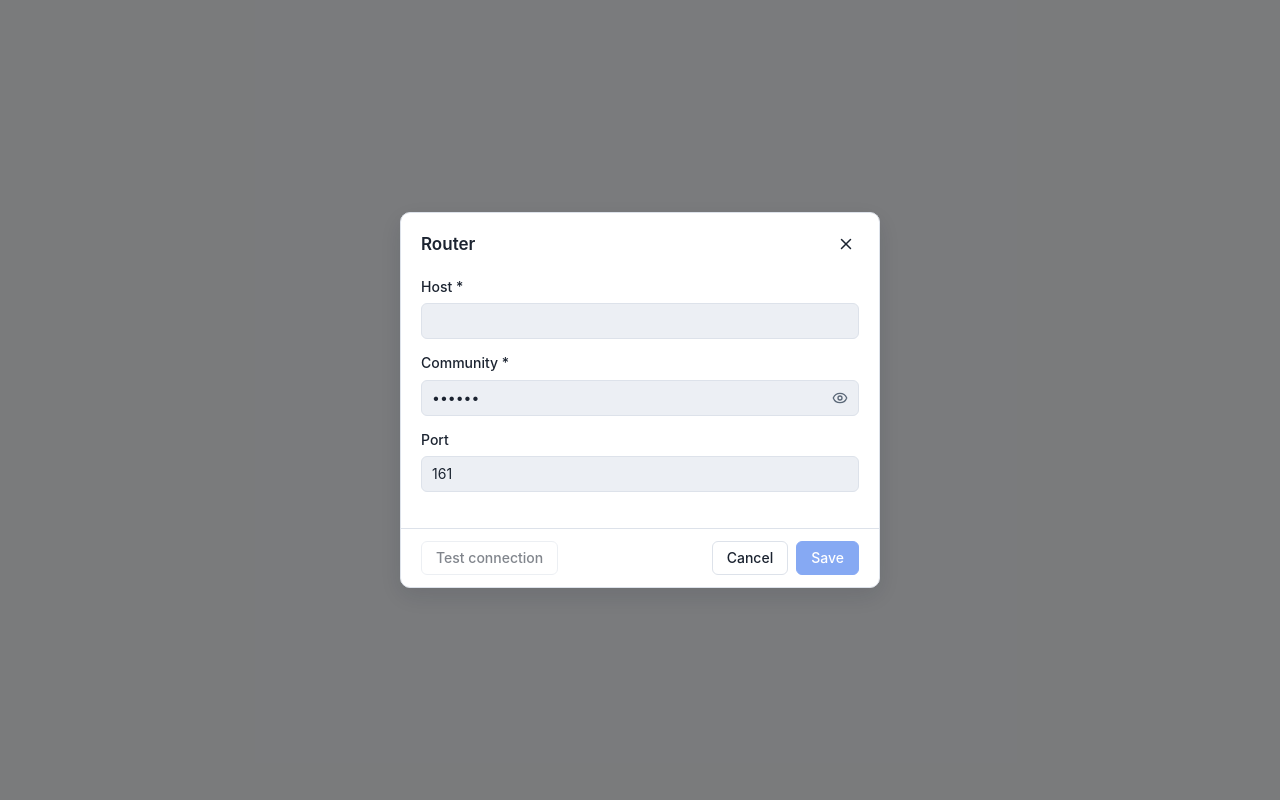
Test: IntegrationForm › lets the user reveal a secret to check it
Check: the password field named "community" holds "public", box [421, 380, 859, 416]
Click the button named "Show": {"x": 840, "y": 398} [825, 384, 855, 412]
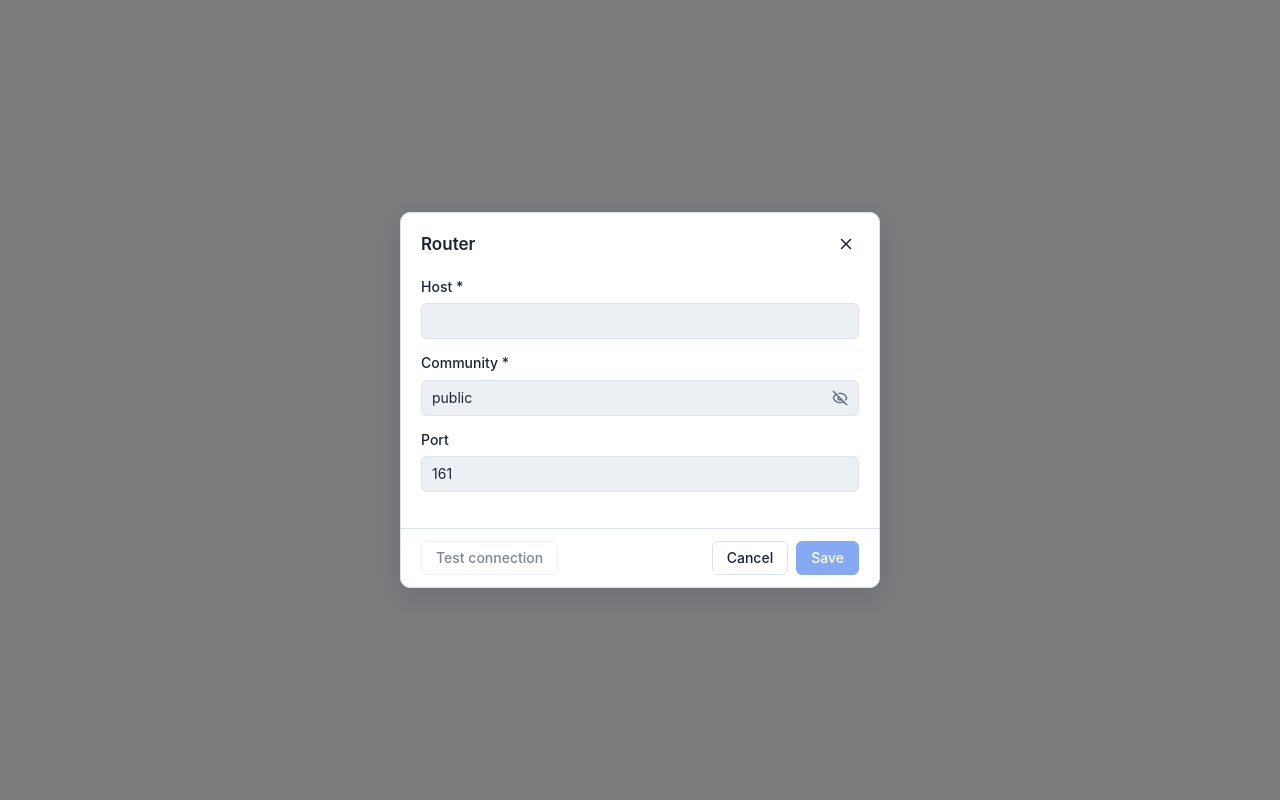
Check: the field named "community" shows its text, box [421, 380, 859, 416]
Click the button named "Hide": {"x": 840, "y": 398} [825, 384, 855, 412]
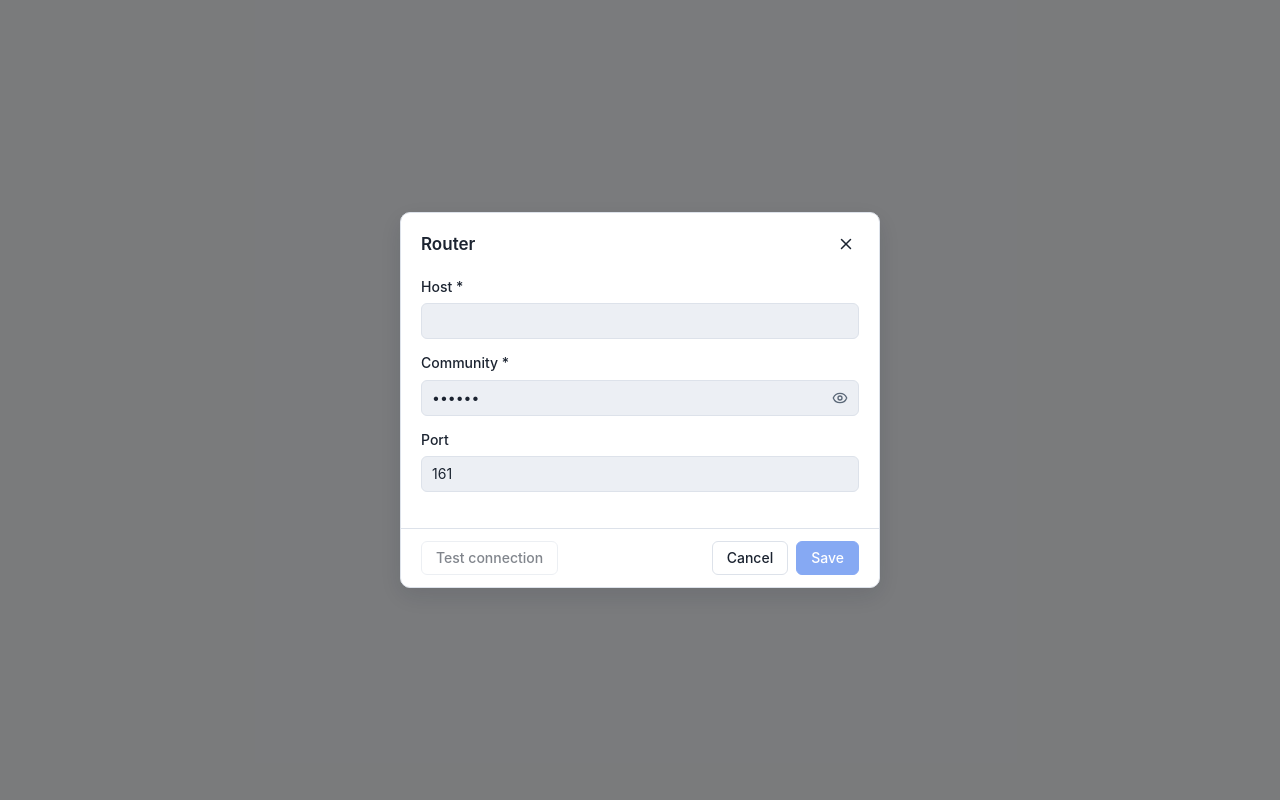
Check: the password field named "community" hides its text, box [421, 380, 859, 416]
